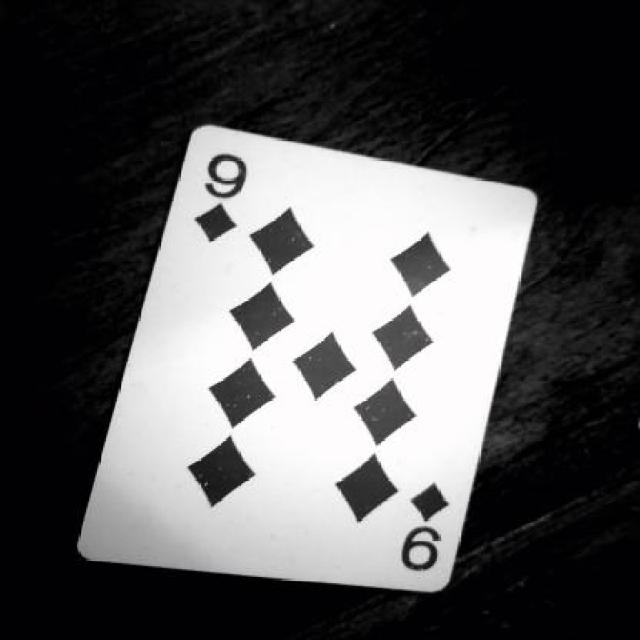9D: (167, 148, 271, 243), (404, 459, 464, 590)
